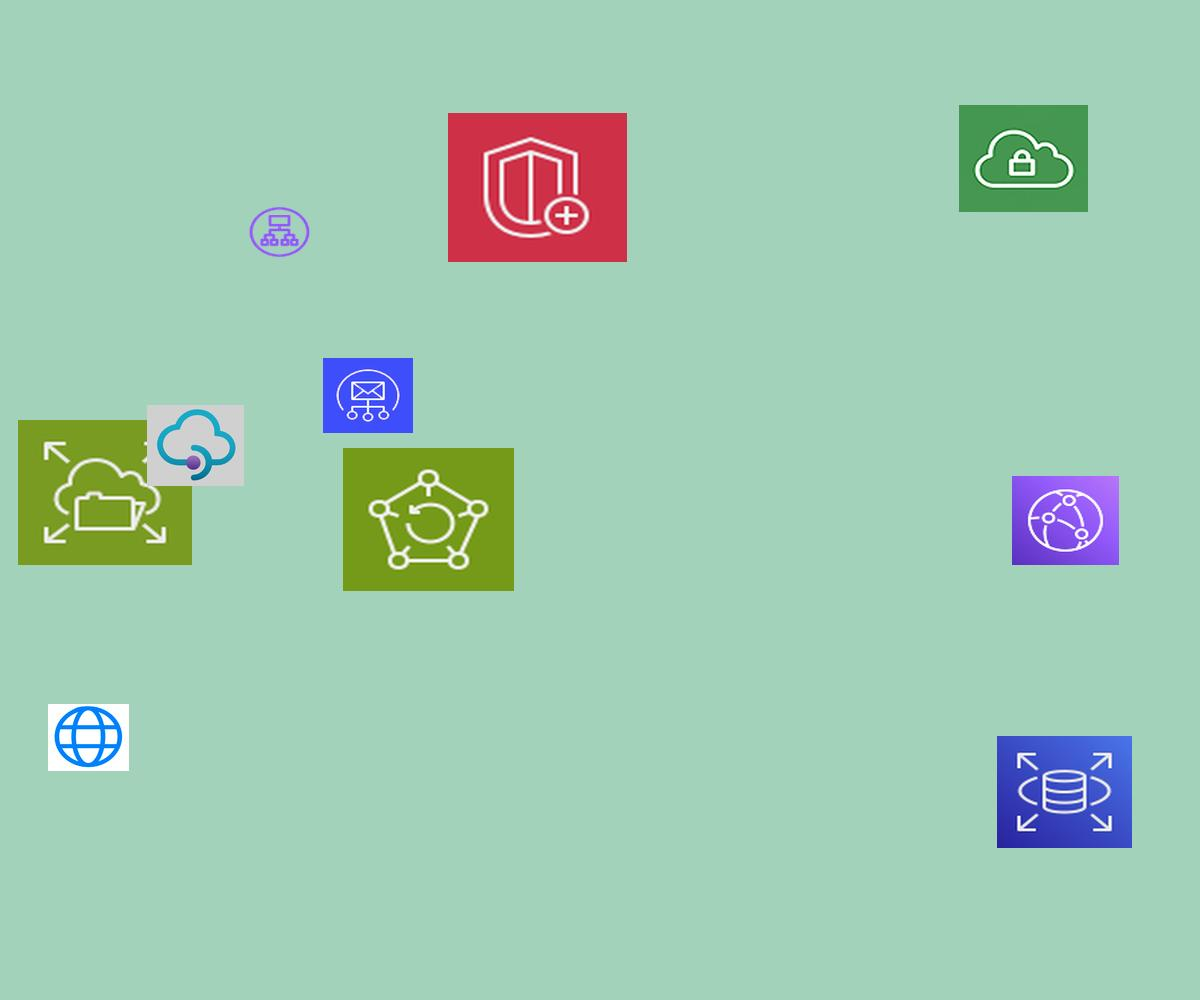AWS-Backup: (343, 448, 514, 591)
AWS-CloudFront: (1012, 476, 1119, 565)
AWS-EFS: (18, 420, 192, 565)
AWS-Private_vpc: (959, 105, 1088, 212)
AWS-RDS: (997, 736, 1132, 848)
AWS-Res_Elastic-Load-Balancing_Application-Load-Balancer: (247, 205, 312, 259)
AWS-Shield: (448, 113, 627, 262)
AWS-Simple-Email-Service: (323, 358, 413, 433)
Azure_api_gateway: (147, 405, 244, 486)
Azure_http: (48, 704, 129, 771)
